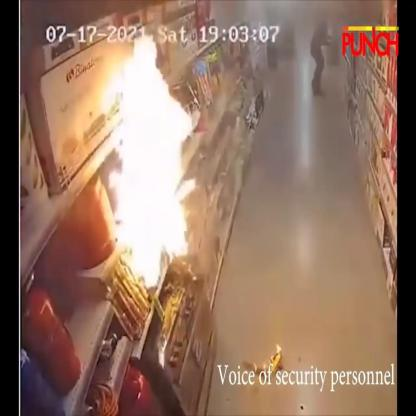fire: (104, 35, 196, 284), (276, 343, 281, 353)
